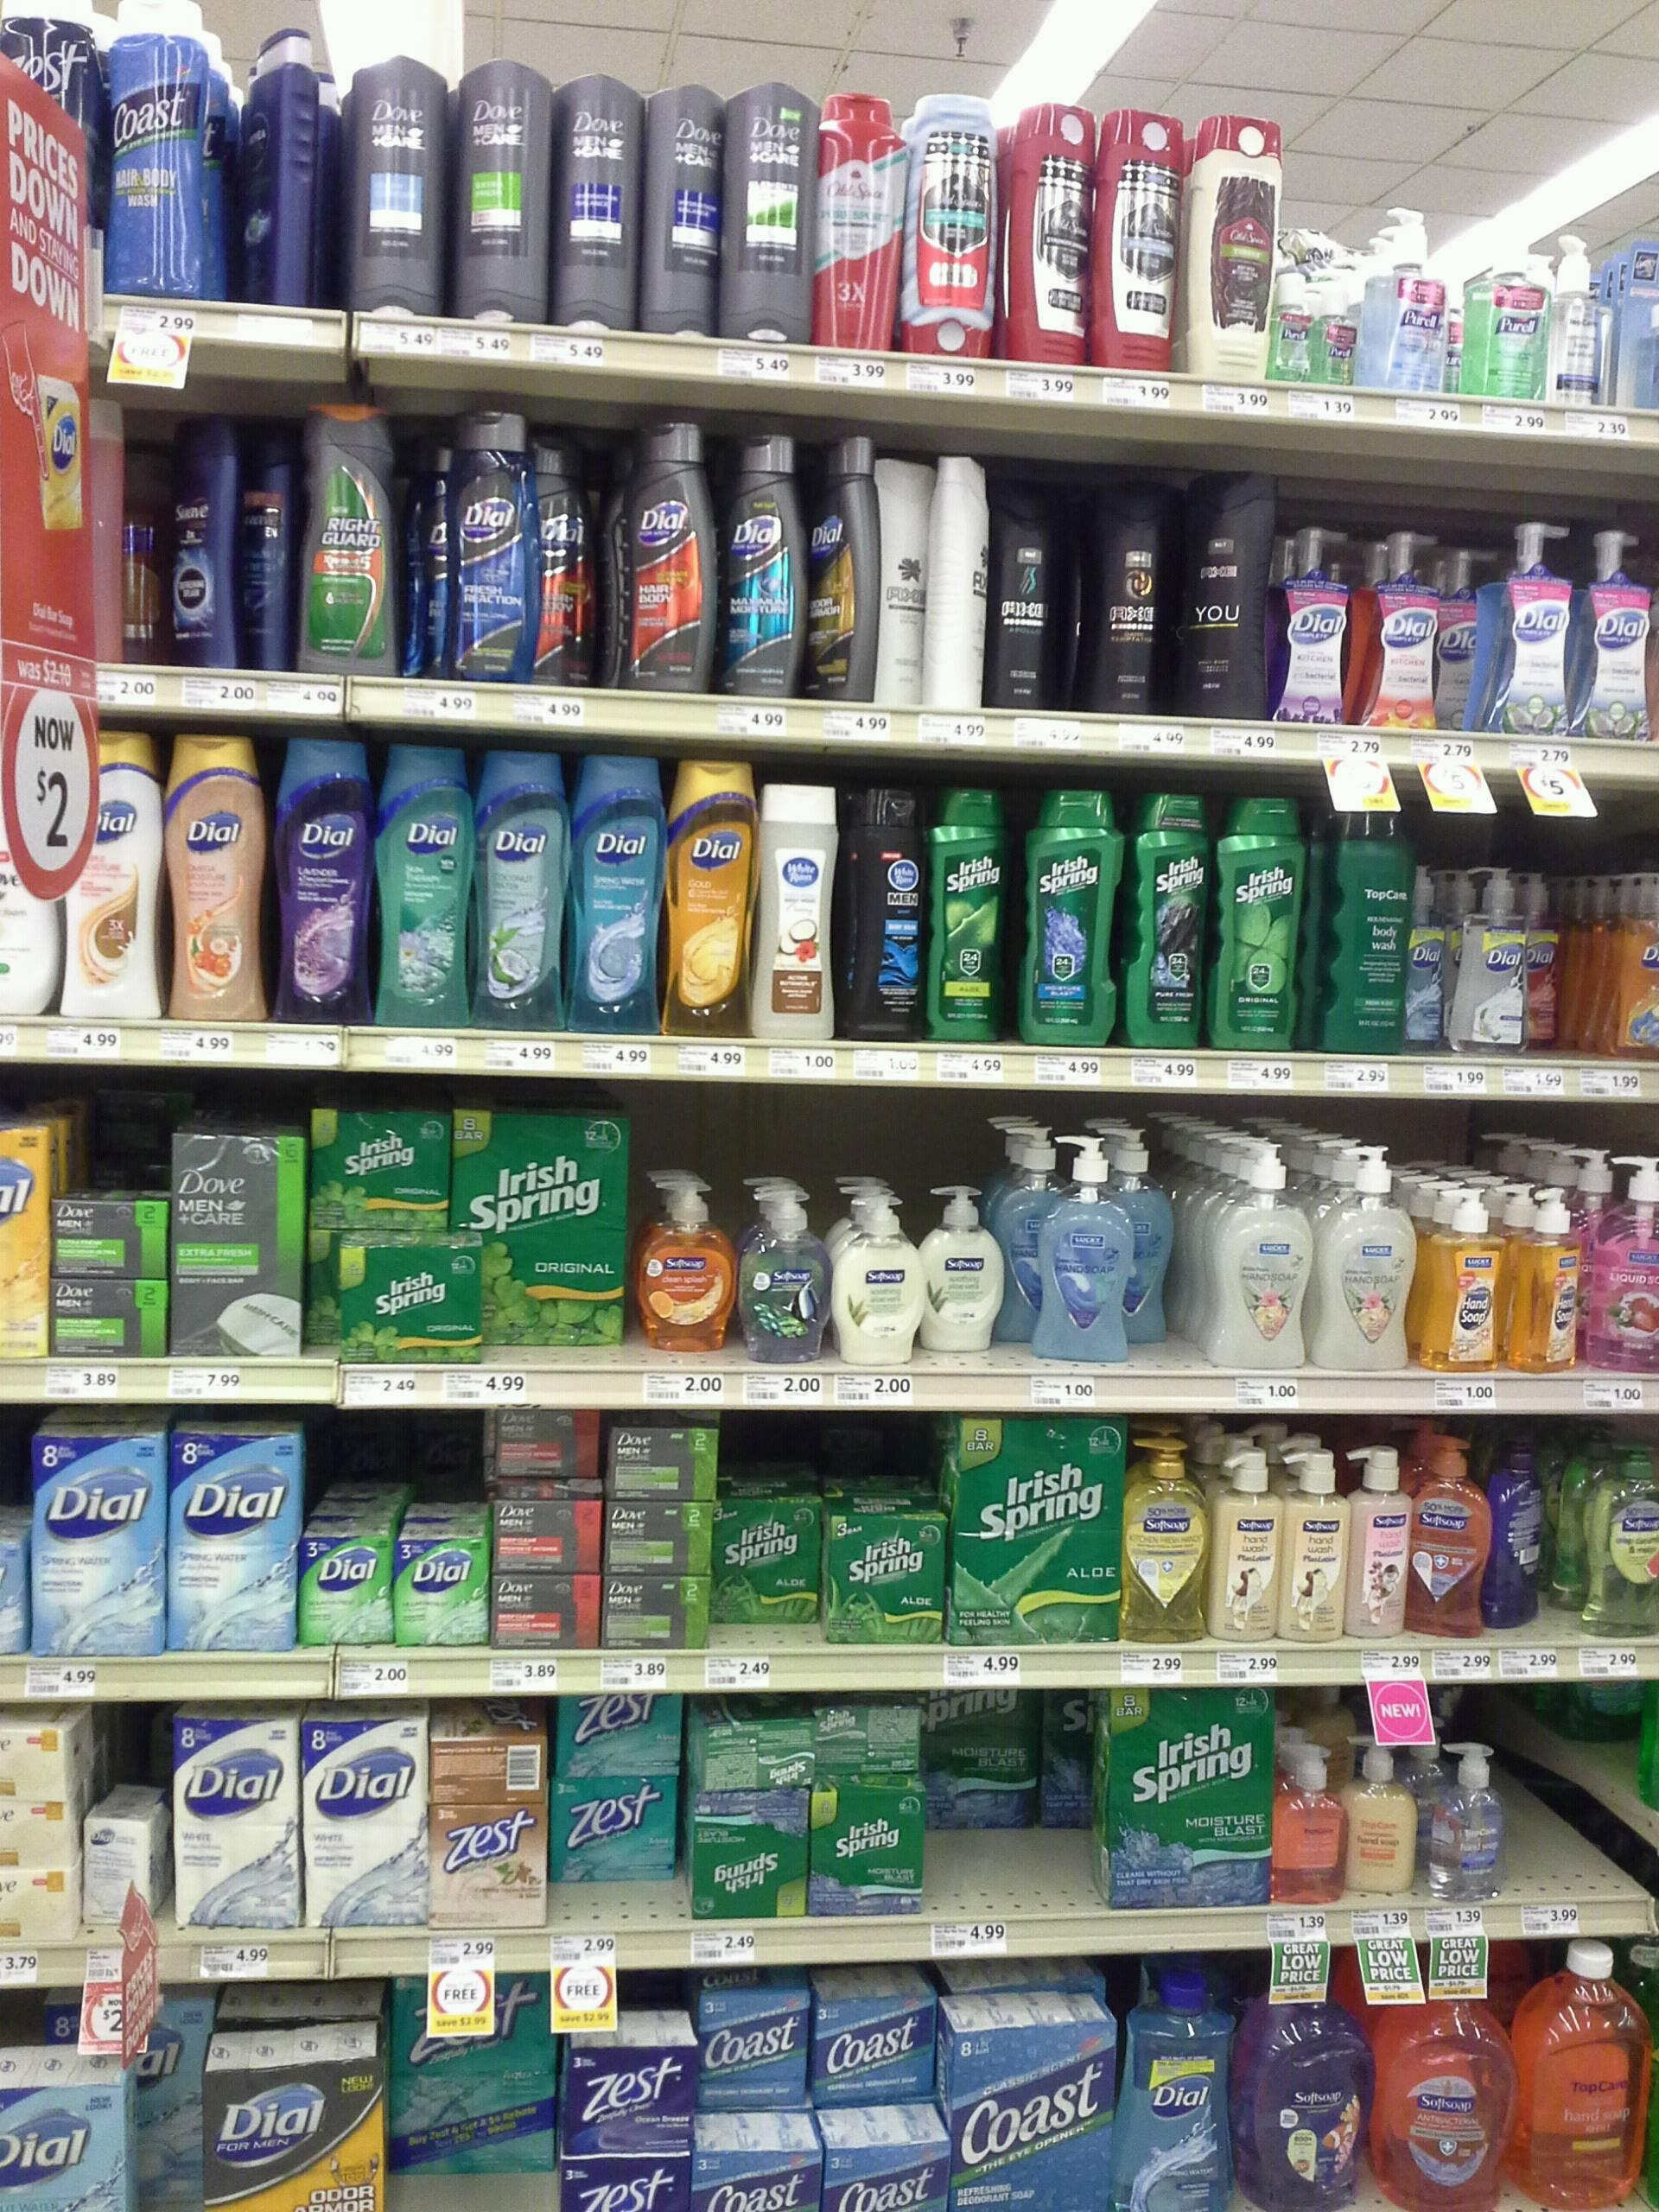misalignment: (225, 17, 321, 307), (155, 404, 242, 660), (697, 1705, 922, 1792), (812, 442, 882, 702), (927, 465, 992, 704), (82, 1775, 167, 1925)
